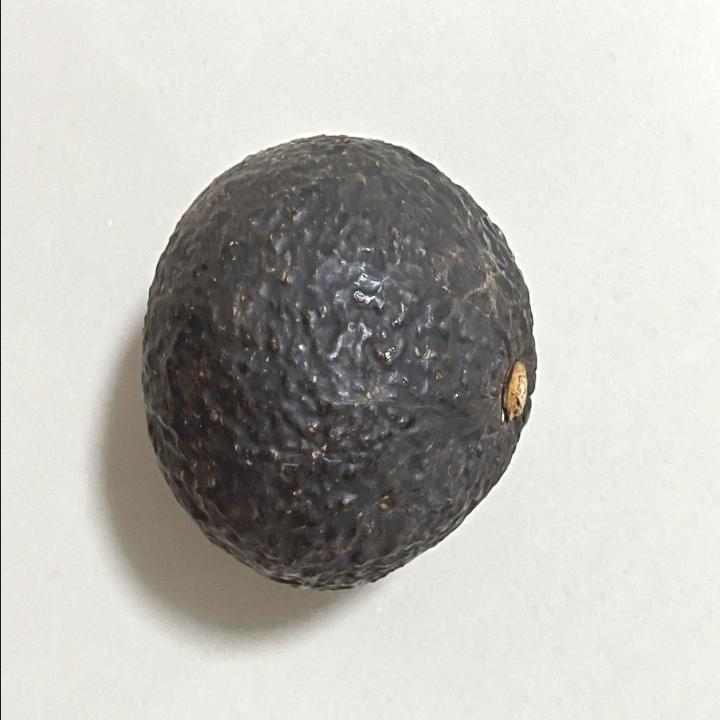Level2: (134, 126, 540, 600)
